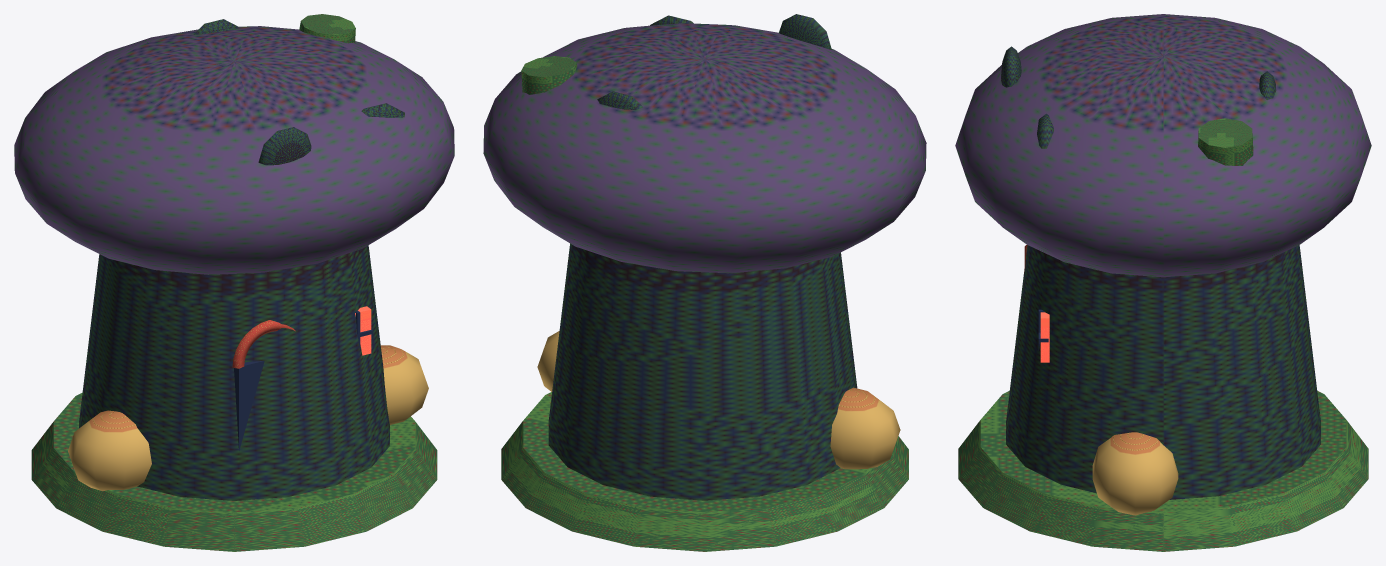
Rendered from batiment-champignon.glb.
3 views of the same model, side by side, from view 1: azimuth 30°, elevation 25°; view 2: azimuth 150°, elevation 25°; view 3: azimuth 270°, elevation 25° (orthographic).
Visible parts, largest first — view 1: Cap, StemHouse, Foundation, Bush-1, Bush1, Spot1, MushroomDoor, Chimney, MushroomDoorTop; view 2: Cap, StemHouse, Foundation, Bush-1, Chimney, Spot1, Bush1, Spot5; view 3: Cap, StemHouse, Foundation, Bush1, Chimney, Spot1.
Boxes of the visible parts, <box> form: Cap: <box>14,26,454,274</box>; StemHouse: <box>79,245,389,500</box>; Foundation: <box>31,392,437,551</box>; Bush-1: <box>68,410,151,491</box>; Bush1: <box>380,345,428,424</box>; Spot1: <box>258,127,311,165</box>; MushroomDoor: <box>234,361,264,450</box>; Chimney: <box>299,14,355,43</box>; MushroomDoorTop: <box>232,320,295,368</box>; Cap: <box>483,23,926,273</box>; StemHouse: <box>548,243,857,500</box>; Foundation: <box>501,392,908,551</box>; Bush-1: <box>830,387,900,469</box>; Chimney: <box>521,56,577,94</box>; Spot1: <box>779,14,831,49</box>; Bush1: <box>537,331,559,391</box>; Spot5: <box>597,91,643,109</box>; Cap: <box>955,14,1371,277</box>; StemHouse: <box>1006,245,1320,499</box>; Foundation: <box>958,391,1368,551</box>; Bush1: <box>1092,432,1178,515</box>; Chimney: <box>1198,118,1253,165</box>; Spot1: <box>1001,46,1021,87</box>.
Bounding box in the file's own units: 4.71 × 4.6 × 4.26.
Materials: 3 (3 with a texture image).
